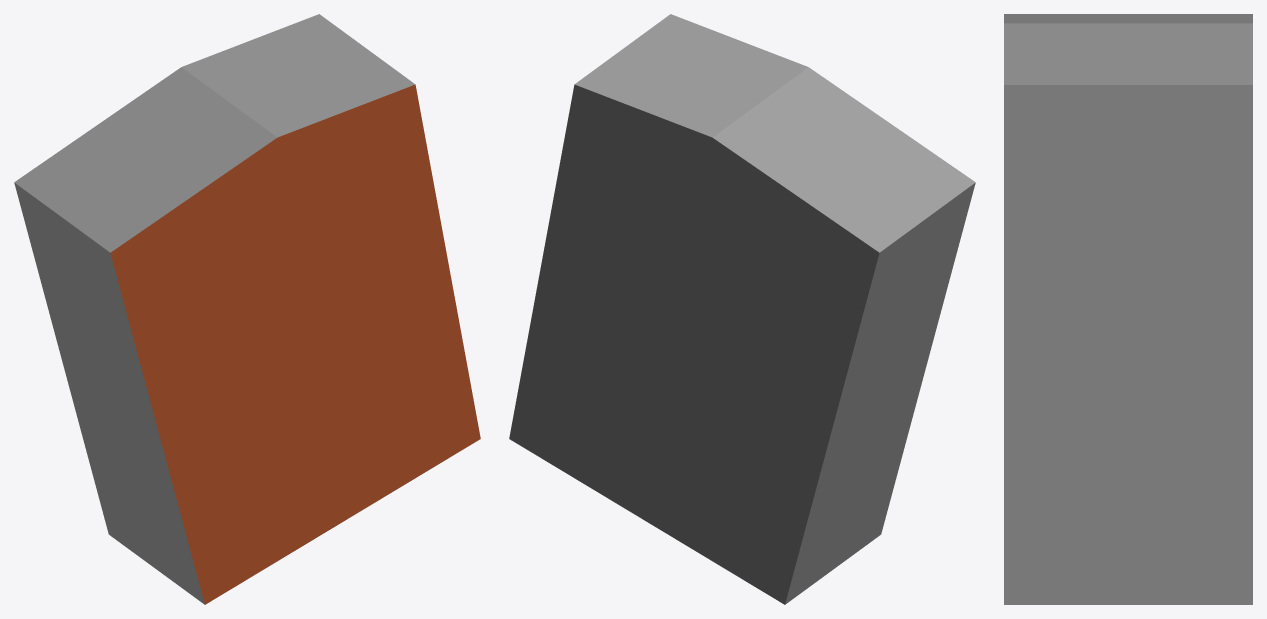
The model's file is construction_6983_assumed_A_Casa_h6m.obj.
3 renders of one model, left to right at view 1: azimuth 30°, elevation 25°; view 2: azimuth 150°, elevation 25°; view 3: azimuth 270°, elevation 25°, orthographic. The views are drawn at different scales.
Parts seen in each view (by area): view 1: construction_6983_assumed_A_Casa; view 2: construction_6983_assumed_A_Casa; view 3: construction_6983_assumed_A_Casa.
Part boxes in pixels (x1,y1,x2,y2): construction_6983_assumed_A_Casa: (14, 14, 480, 604); construction_6983_assumed_A_Casa: (509, 14, 975, 604); construction_6983_assumed_A_Casa: (1004, 14, 1252, 604).
Size of the model in its own units: 13.33 by 16.14 by 6.
